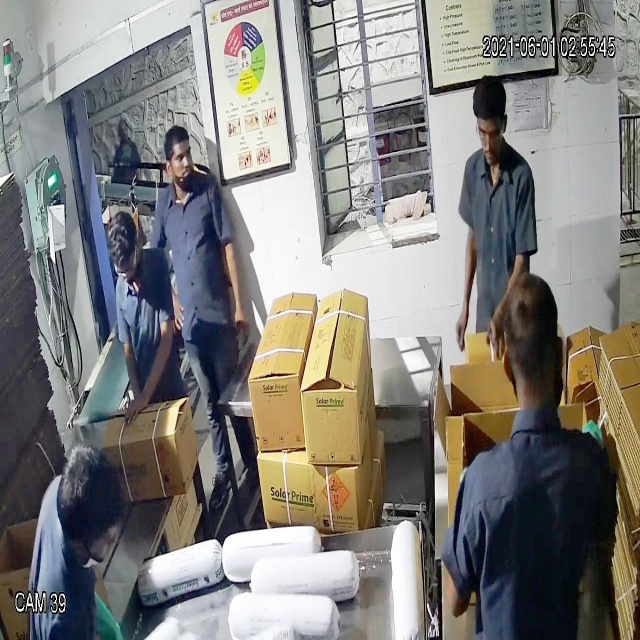Gafas: (474, 114, 511, 150)
